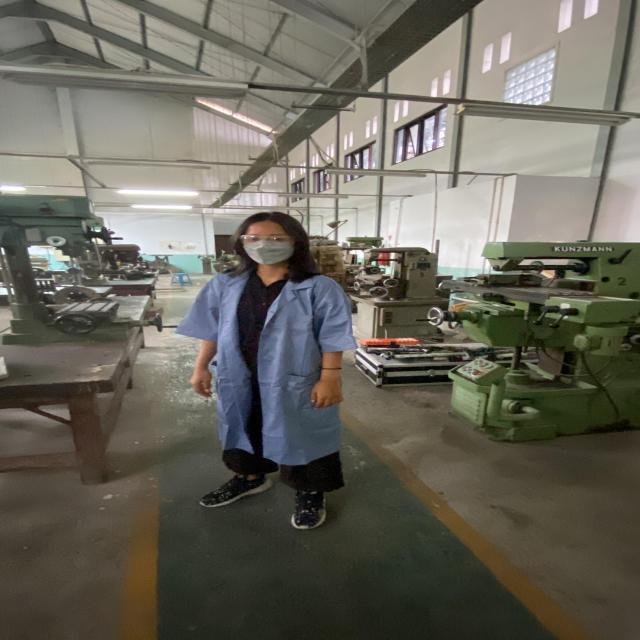glasses: (234, 232, 301, 248)
